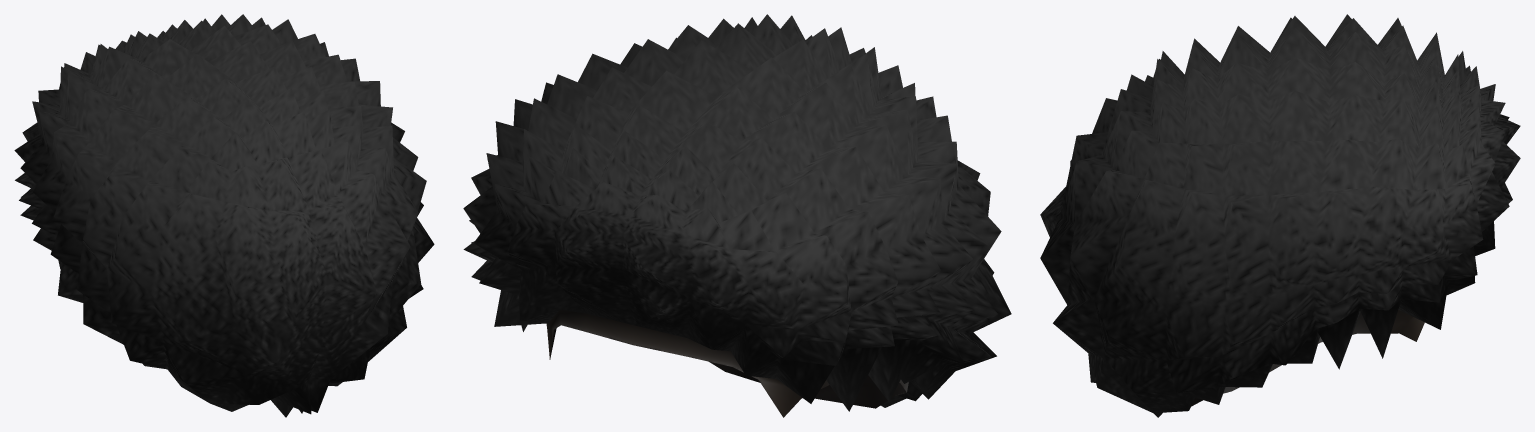
3 renders of one model, left to right at view 1: azimuth 30°, elevation 25°; view 2: azimuth 150°, elevation 25°; view 3: azimuth 270°, elevation 25°, orthographic. The views are drawn at different scales.
Visible parts, largest first — view 1: geometry_0; view 2: geometry_0; view 3: geometry_0.
Boxes of the visible parts, bbox=[...] form: geometry_0: bbox=[14, 14, 434, 417]; geometry_0: bbox=[463, 14, 1011, 417]; geometry_0: bbox=[1040, 14, 1520, 417].
Bounding box in the file's own units: 1.88 × 1.6 × 1.95.
1 material, 1 textured.
